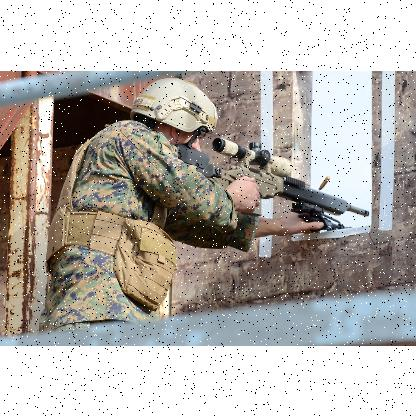gun: (182, 133, 362, 245)
